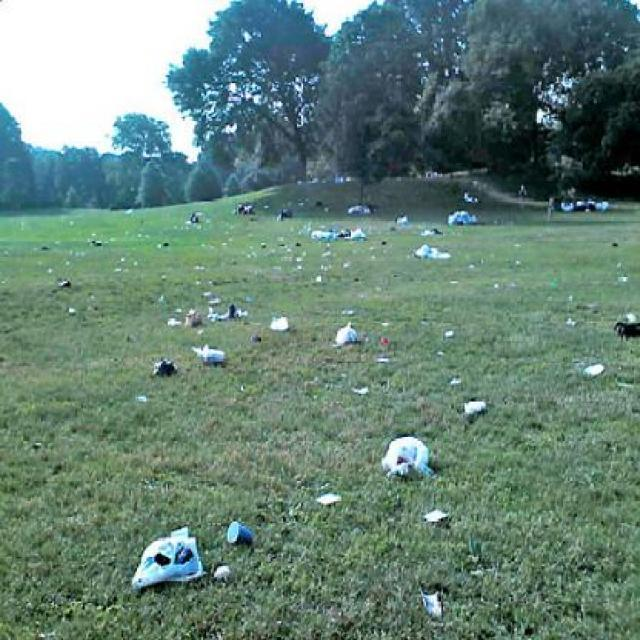garbage: (8, 157, 634, 608)
